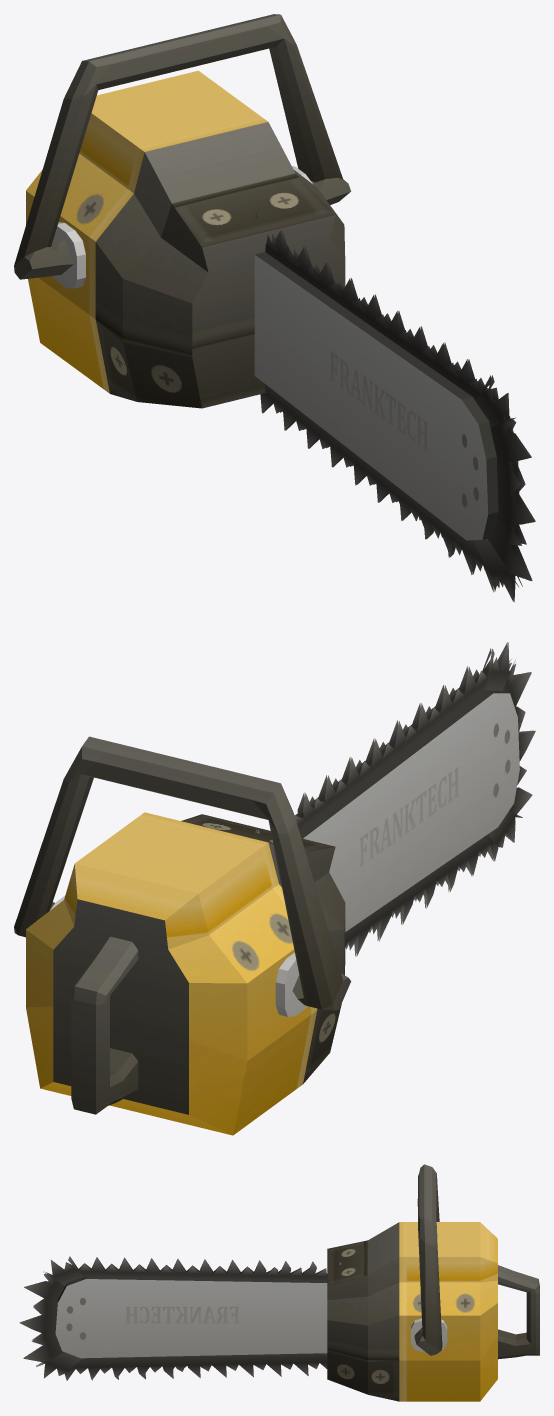
Rendered from Chainsaw.fbx.
3 renders of one model, top to bottom at view 1: azimuth 30°, elevation 25°; view 2: azimuth 150°, elevation 25°; view 3: azimuth 270°, elevation 25°, orthographic. The views are drawn at different scales.
Parts seen in each view (by area): view 1: ChainsawModel, ChainsawBlade; view 2: ChainsawModel, ChainsawBlade; view 3: ChainsawModel, ChainsawBlade.
Part boxes in pixels (x1=…): ChainsawModel: x1=14, y1=14, x2=519, y2=540; ChainsawBlade: x1=255, y1=213, x2=535, y2=601; ChainsawModel: x1=14, y1=687, x2=519, y2=1135; ChainsawBlade: x1=255, y1=642, x2=535, y2=956; ChainsawModel: x1=55, y1=1164, x2=539, y2=1401; ChainsawBlade: x1=19, y1=1256, x2=341, y2=1380.
Bounding box in the file's own units: 0.8334 × 0.835 × 2.06.
